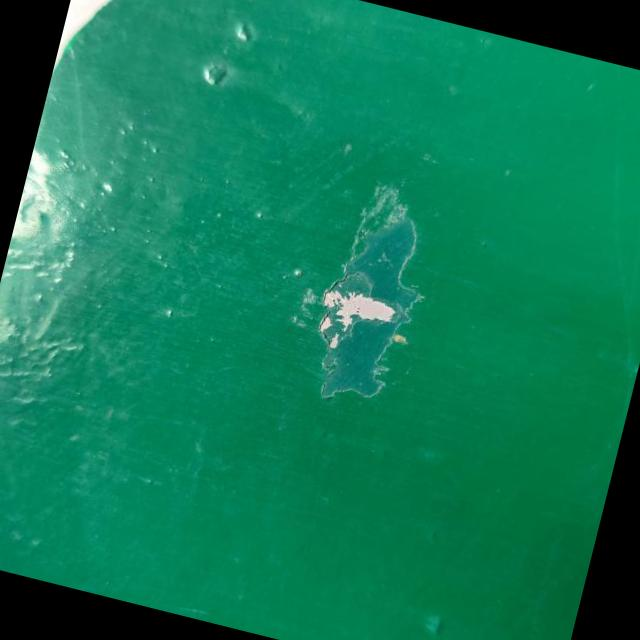Paint-off: (306, 183, 421, 400)
